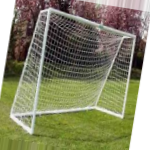goals: (11, 6, 137, 135)
